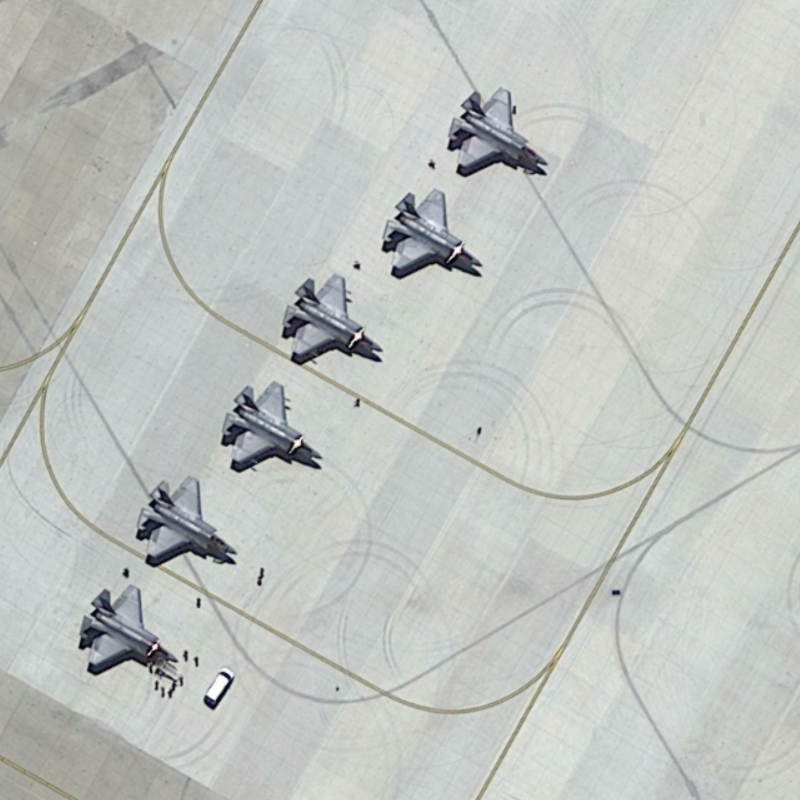A15: (68, 578, 188, 682), (269, 268, 390, 369), (212, 378, 332, 478), (376, 182, 492, 285), (129, 472, 246, 574), (441, 82, 555, 184)
